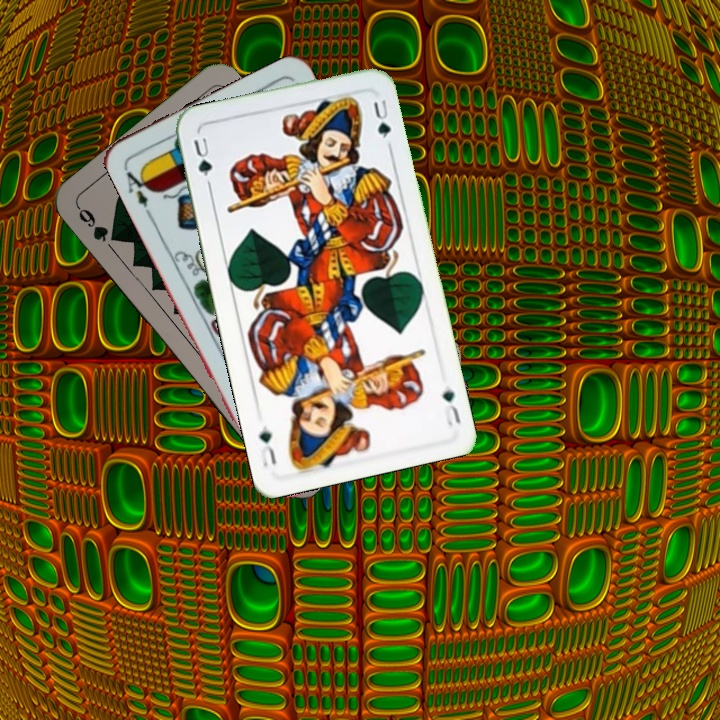EA: (120, 162, 156, 218)
G9: (73, 202, 123, 245)
GU: (189, 133, 215, 179), (438, 385, 463, 429)
